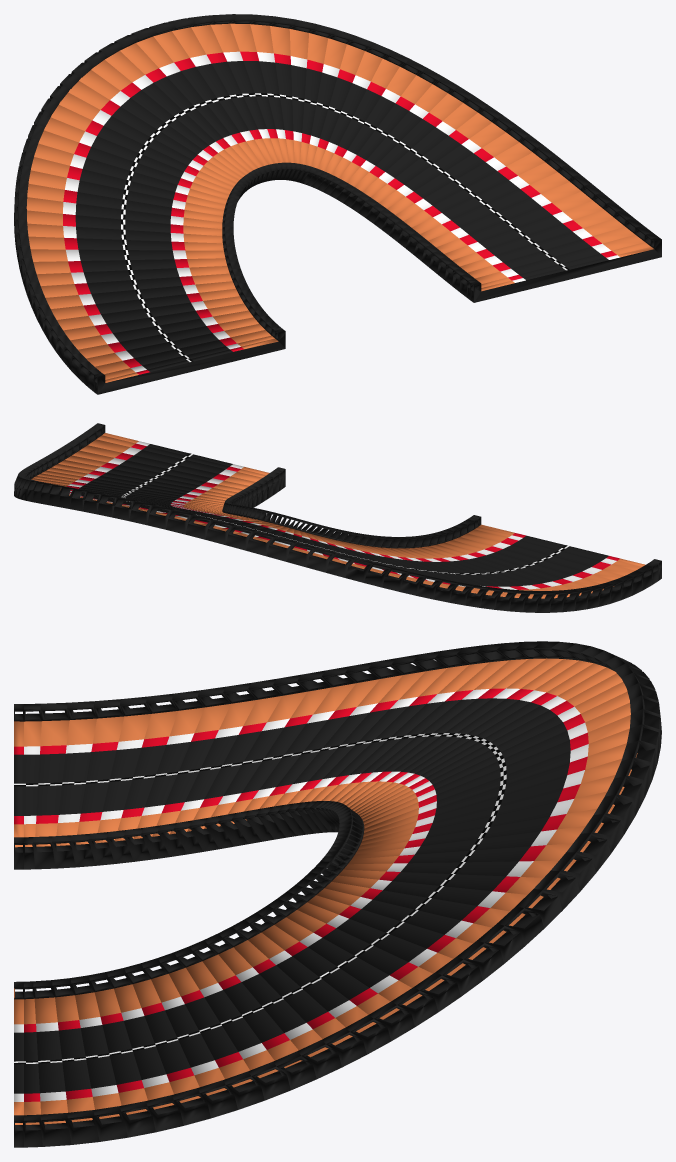
The model's file is ModularTrackBank-Deux.fbx.
3 views of the same model, one above another, from view 1: azimuth 30°, elevation 25°; view 2: azimuth 150°, elevation 25°; view 3: azimuth 270°, elevation 25° (orthographic). The views are drawn at different scales.
Visible parts, largest first — view 1: ModularTrackUBank, LaneDivider.001; view 2: ModularTrackUBank, LaneDivider.001; view 3: ModularTrackUBank, LaneDivider.001.
Part boxes in pixels (x1,y1,x2,y2): ModularTrackUBank: (14,14,661,394); LaneDivider.001: (121,93,569,361); ModularTrackUBank: (14,423,661,612); LaneDivider.001: (121,453,569,574); ModularTrackUBank: (14,641,661,1147); LaneDivider.001: (14,733,506,1064).
Bounding box in the file's own units: 3000 × 773 × 1971.
